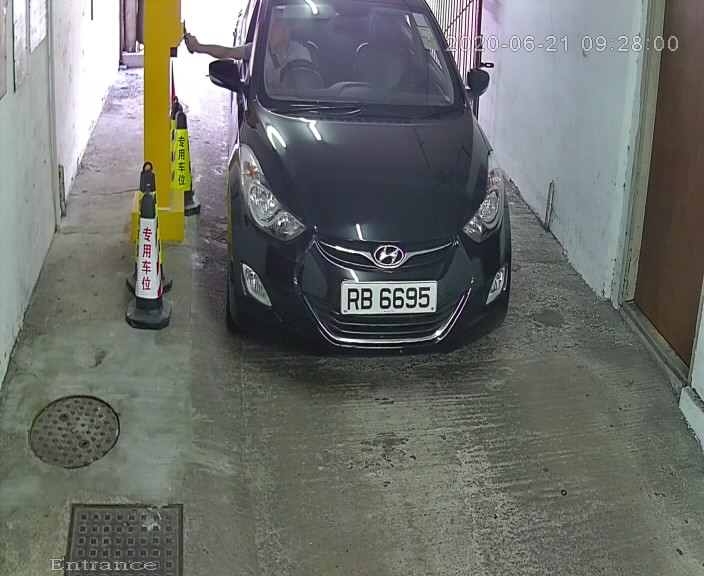privatecar: (200, 2, 532, 372)
